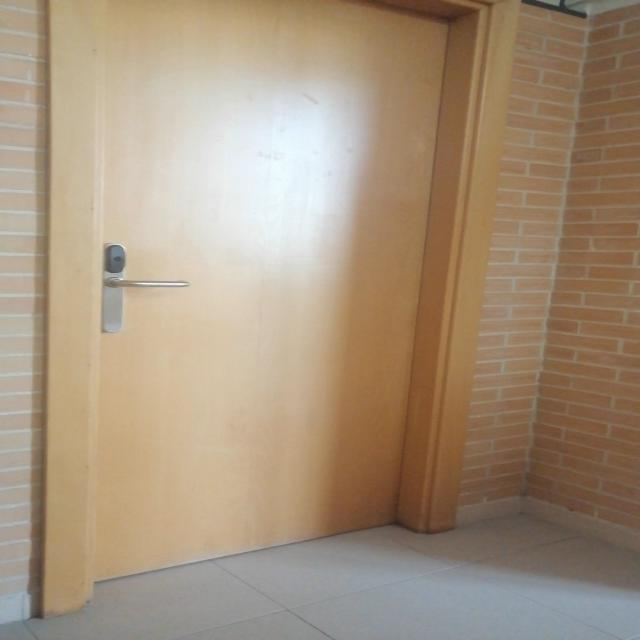door_handle: (100, 275, 194, 293)
